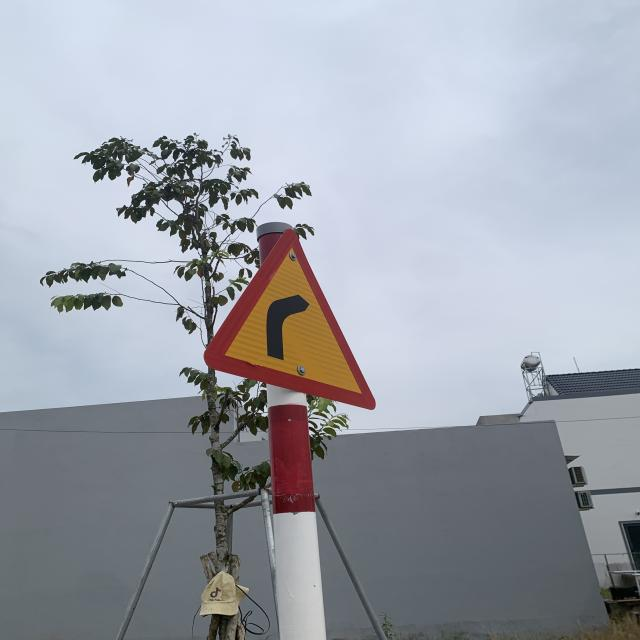Duong_Nguoi_Di_Bo_Cat_Ngang: (204, 229, 377, 408)
